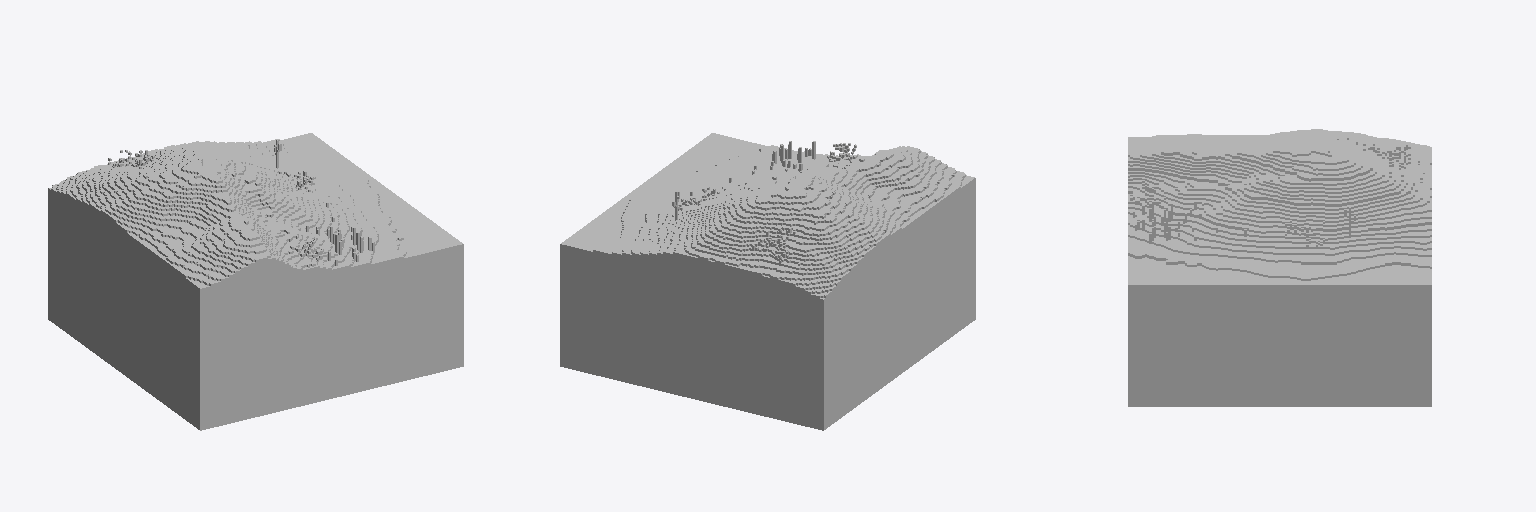
The model's file is Sunkeny City -  Voxel Desert-6-tile 6.obj.
3 renders of one model, left to right at view 1: azimuth 30°, elevation 25°; view 2: azimuth 150°, elevation 25°; view 3: azimuth 270°, elevation 25°, orthographic.
Visible parts, largest first — view 1: tile 6; view 2: tile 6; view 3: tile 6.
Part boxes in pixels (left/top/right/bottom): tile 6: left=48, top=133, right=463, bottom=430; tile 6: left=560, top=133, right=975, bottom=430; tile 6: left=1128, top=129, right=1431, bottom=406.
Size of the model in its own units: 12.8 by 8.1 by 12.8.